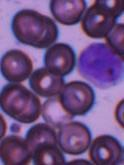L: (77, 41, 123, 89)
